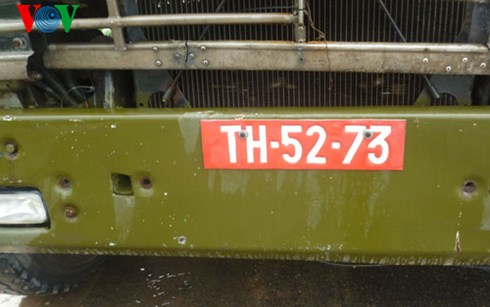plate: (197, 113, 407, 174)
